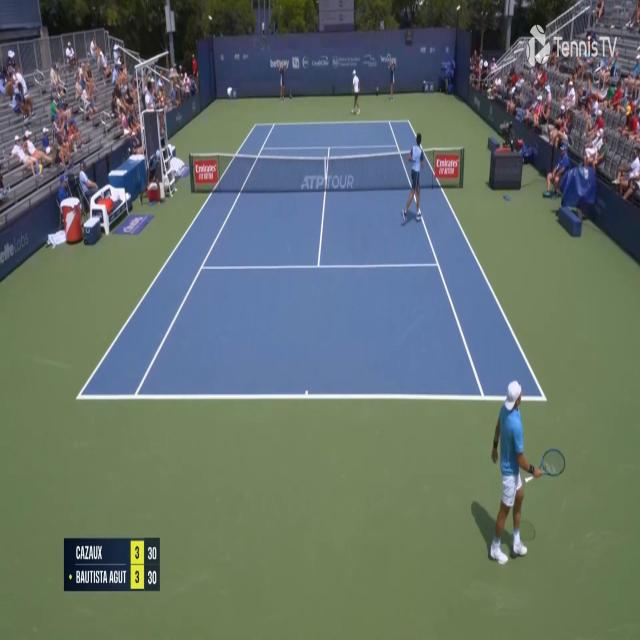tennis-player: (483, 377, 568, 567), (350, 67, 362, 116)
